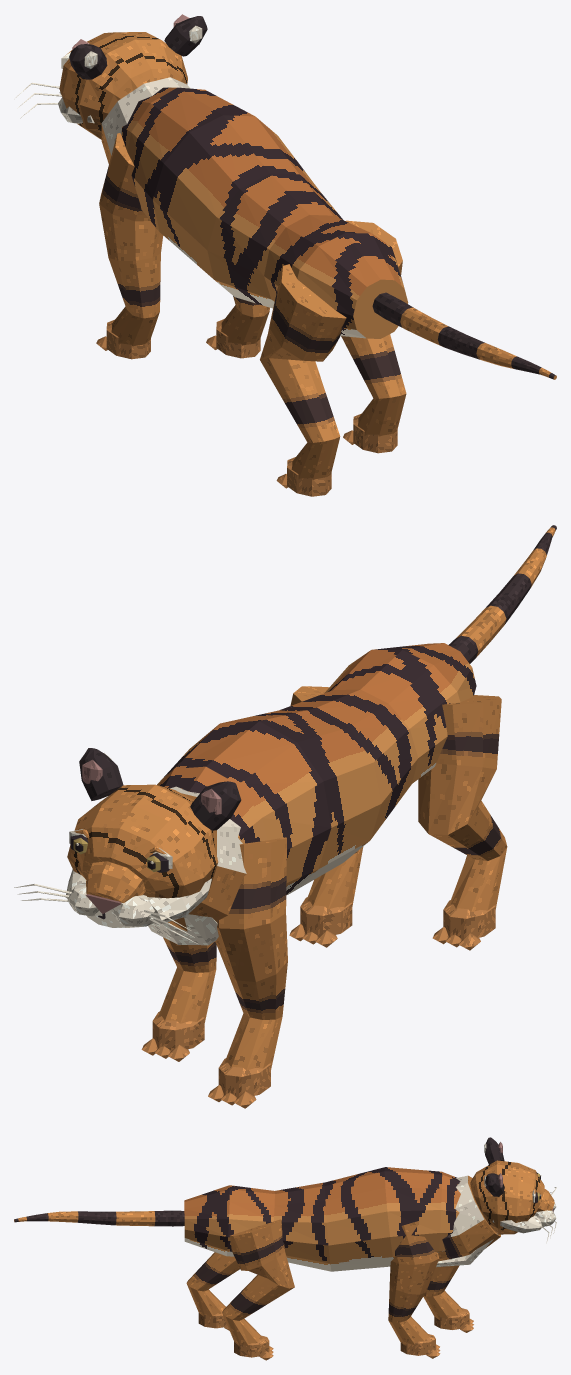
The model's file is mon_tiger.glb.
The picture shows the model from 3 angles, top to bottom: view 1: azimuth 30°, elevation 25°; view 2: azimuth 150°, elevation 25°; view 3: azimuth 270°, elevation 25°; orthographic projection. The views are drawn at different scales.
Parts seen in each view (by area): view 1: closed_body; view 2: closed_body; view 3: closed_body.
Boxes of the visible parts, <box> form: closed_body: <box>14,14,556,496</box>; closed_body: <box>14,525,556,1108</box>; closed_body: <box>14,1137,556,1360</box>.
Size of the model in its own units: 0.6378 by 1.18 by 3.12.
1 material, 1 textured.
